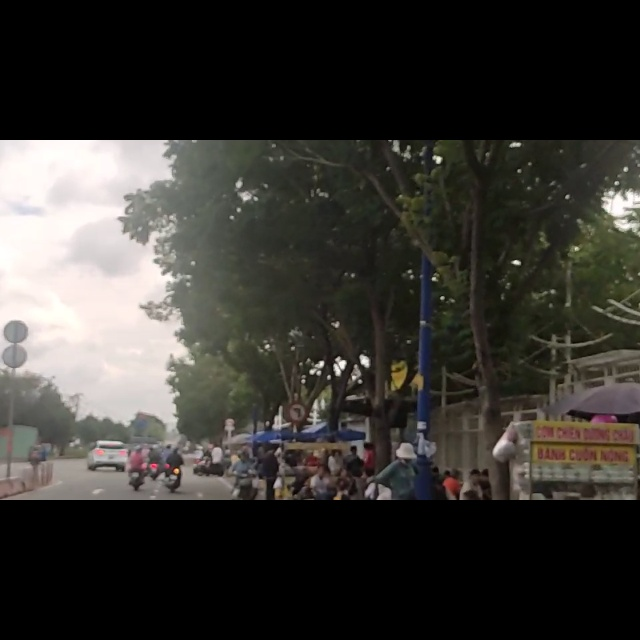bien_cam: (284, 465, 308, 505)
